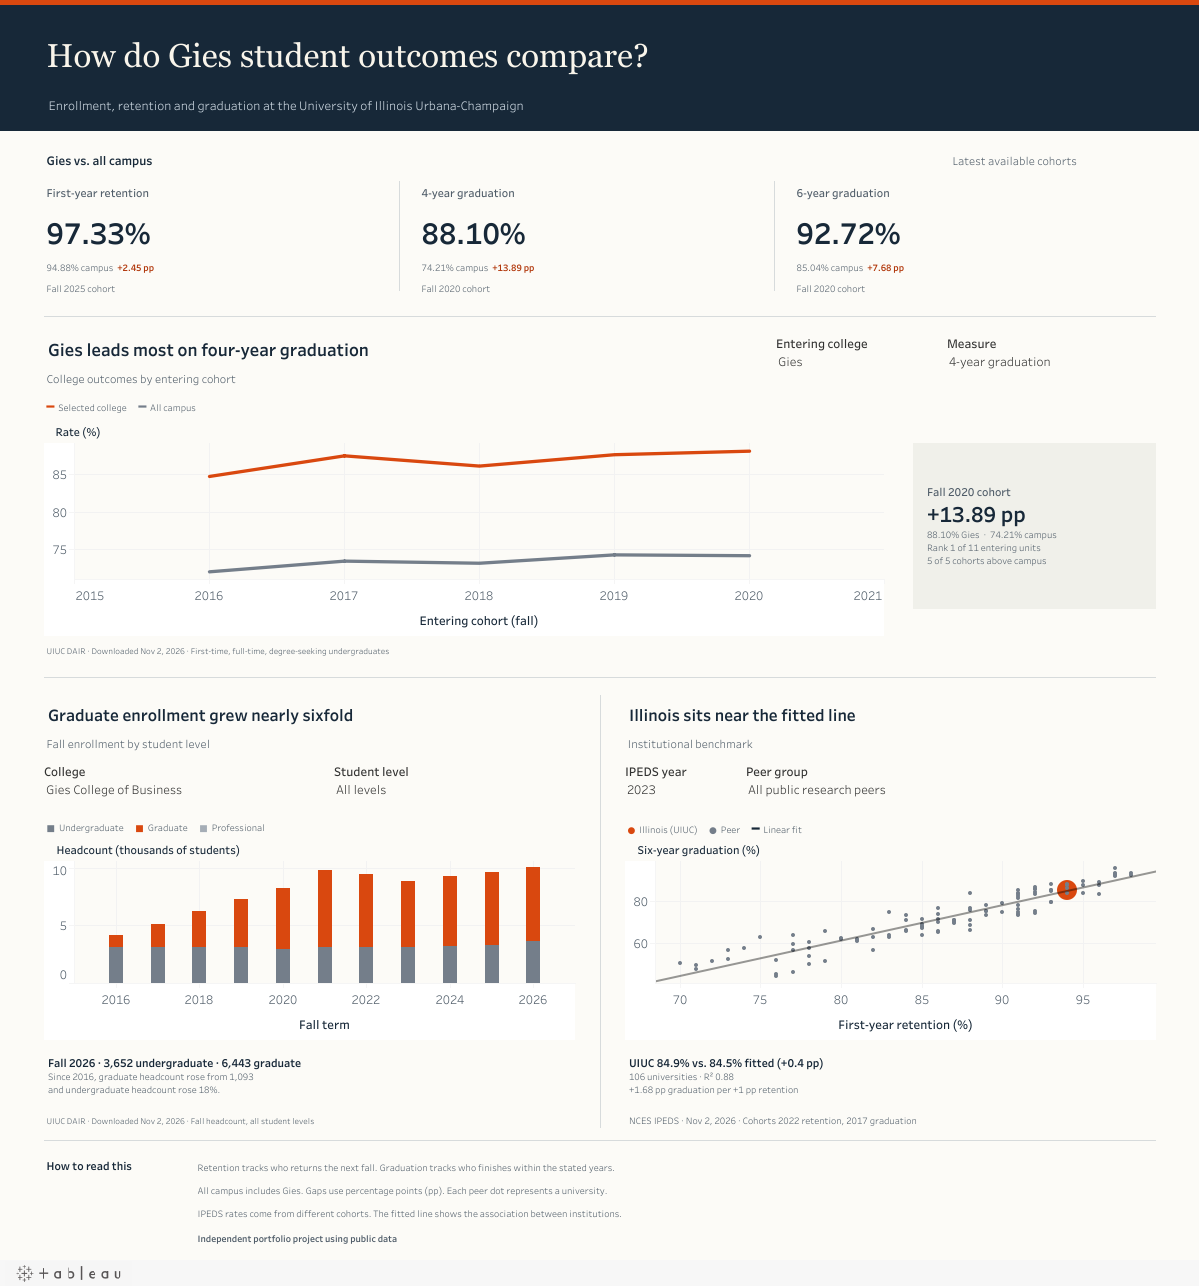

This screenshot's page, from the dashboard's own definition file:
{"tool":"tableau","page":{"name":"Gies Retention and Graduation","canvas":[1200,1260],"ordinal":0},"visuals":[{"type":"blank","box":[0,0,1200,1260]},{"type":"blank","box":[0,0,1200,5]},{"type":"blank","box":[0,5,1200,126]},{"type":"text","box":[44,25,1108,61]},{"type":"text","box":[46,92,1108,25]},{"type":"text","box":[44,149,370,22]},{"type":"text","box":[950,149,206,22]},{"type":"text","box":[44,181,350,23]},{"type":"blank","box":[399,181,1,110]},{"type":"text","box":[419,181,350,23]},{"type":"blank","box":[774,181,1,110]},{"type":"text","box":[794,181,350,23]},{"type":"text","box":[44,207,350,49]},{"type":"text","box":[419,207,350,49]},{"type":"text","box":[794,207,350,49]},{"type":"text","box":[44,257,350,20]},{"type":"text","box":[419,257,350,20]},{"type":"text","box":[794,257,350,20]},{"type":"text","box":[44,278,350,21]},{"type":"text","box":[419,278,350,21]},{"type":"text","box":[794,278,350,21]},{"type":"blank","box":[44,316,1112,1]},{"type":"worksheet","title":"Outcome heading","mark":"Automatic","box":[44,333,700,32]},{"type":"parameter","param":"[Parameters].[Parameter 1]","box":[776,333,154,53]},{"type":"parameter","param":"[Parameters].[Parameter 2]","box":[947,333,209,53]},{"type":"text","box":[44,367,680,22]},{"type":"text","box":[44,394,520,23]},{"type":"text","box":[53,421,400,20]},{"type":"worksheet","title":"Retention and graduation","mark":"Line","rows":["rate_pct"],"cols":["cohort"],"box":[44,443,840,193]},{"type":"worksheet","title":"Selected outcome","mark":"Automatic","box":[913,443,243,166]},{"type":"text","box":[44,640,1112,22]},{"type":"blank","box":[44,677,1112,1]},{"type":"blank","box":[600,695,1,433]},{"type":"worksheet","title":"Enrollment heading","mark":"Automatic","box":[44,699,531,32]},{"type":"worksheet","title":"Peer heading","mark":"Automatic","box":[625,699,531,32]},{"type":"text","box":[44,733,531,21]},{"type":"text","box":[625,733,531,21]},{"type":"parameter","param":"[Parameters].[Enrollment college]","box":[44,761,276,53]},{"type":"parameter","param":"[Parameters].[Student level]","box":[334,761,192,53]},{"type":"parameter","param":"[Parameters].[IPEDS year]","box":[625,761,105,53]},{"type":"parameter","param":"[Parameters].[Peer group]","box":[746,761,266,53]},{"type":"text","box":[44,817,531,20]},{"type":"text","box":[625,817,531,20]},{"type":"text","box":[54,839,521,20]},{"type":"text","box":[635,839,521,20]},{"type":"worksheet","title":"Enrollment","mark":"Bar","rows":["Headcount in thousands"],"cols":["fall_year"],"box":[44,861,531,179]},{"type":"worksheet","title":"Peer comparison","mark":"Circle","rows":["grad_rate_6yr"],"cols":["retention_rate"],"box":[625,861,531,179]},{"type":"worksheet","title":"Enrollment readout","mark":"Automatic","box":[44,1043,531,66]},{"type":"worksheet","title":"Peer model readout","mark":"Automatic","box":[625,1043,531,66]},{"type":"text","box":[44,1109,531,24]},{"type":"worksheet","title":"Peer cohort note","mark":"Automatic","box":[625,1109,531,24]},{"type":"blank","box":[44,1140,1112,1]},{"type":"text","box":[44,1154,142,23]},{"type":"text","box":[195,1154,961,26]},{"type":"text","box":[195,1177,961,26]},{"type":"text","box":[195,1200,961,26]},{"type":"text","box":[195,1225,961,26]}]}

Visuals, with their boxes in screenshot pixels (x1, y1, x2, y2), scaled from the page's 1200x1260 canvas onto the 1199x1286 screenshot:
blank: <box>0,0,1198,1285</box>
blank: <box>0,0,1198,5</box>
blank: <box>0,5,1198,134</box>
text: <box>44,26,1151,88</box>
text: <box>46,94,1153,119</box>
text: <box>44,152,414,175</box>
text: <box>949,152,1155,175</box>
text: <box>44,185,394,208</box>
blank: <box>399,185,400,297</box>
text: <box>419,185,768,208</box>
blank: <box>773,185,774,297</box>
text: <box>793,185,1143,208</box>
text: <box>44,211,394,261</box>
text: <box>419,211,768,261</box>
text: <box>793,211,1143,261</box>
text: <box>44,262,394,283</box>
text: <box>419,262,768,283</box>
text: <box>793,262,1143,283</box>
text: <box>44,284,394,305</box>
text: <box>419,284,768,305</box>
text: <box>793,284,1143,305</box>
blank: <box>44,323,1155,324</box>
"Outcome heading" worksheet: <box>44,340,743,373</box>
parameter: <box>775,340,929,394</box>
parameter: <box>946,340,1155,394</box>
text: <box>44,375,723,397</box>
text: <box>44,402,564,426</box>
text: <box>53,430,453,450</box>
"Retention and graduation" worksheet (Line marks): <box>44,452,883,649</box>
"Selected outcome" worksheet: <box>912,452,1155,622</box>
text: <box>44,653,1155,676</box>
blank: <box>44,691,1155,692</box>
"Enrollment heading" worksheet: <box>44,713,575,746</box>
"Peer heading" worksheet: <box>624,713,1155,746</box>
text: <box>44,748,575,770</box>
text: <box>624,748,1155,770</box>
parameter: <box>44,777,320,831</box>
parameter: <box>334,777,526,831</box>
parameter: <box>624,777,729,831</box>
parameter: <box>745,777,1011,831</box>
text: <box>44,834,575,854</box>
text: <box>624,834,1155,854</box>
text: <box>54,856,575,877</box>
text: <box>634,856,1155,877</box>
"Enrollment" worksheet (Bar marks): <box>44,879,575,1061</box>
"Peer comparison" worksheet (Circle marks): <box>624,879,1155,1061</box>
"Enrollment readout" worksheet: <box>44,1065,575,1132</box>
"Peer model readout" worksheet: <box>624,1065,1155,1132</box>
text: <box>44,1132,575,1156</box>
"Peer cohort note" worksheet: <box>624,1132,1155,1156</box>
blank: <box>44,1164,1155,1165</box>
text: <box>44,1178,186,1201</box>
text: <box>195,1178,1155,1204</box>
text: <box>195,1201,1155,1228</box>
text: <box>195,1225,1155,1251</box>
text: <box>195,1250,1155,1277</box>
